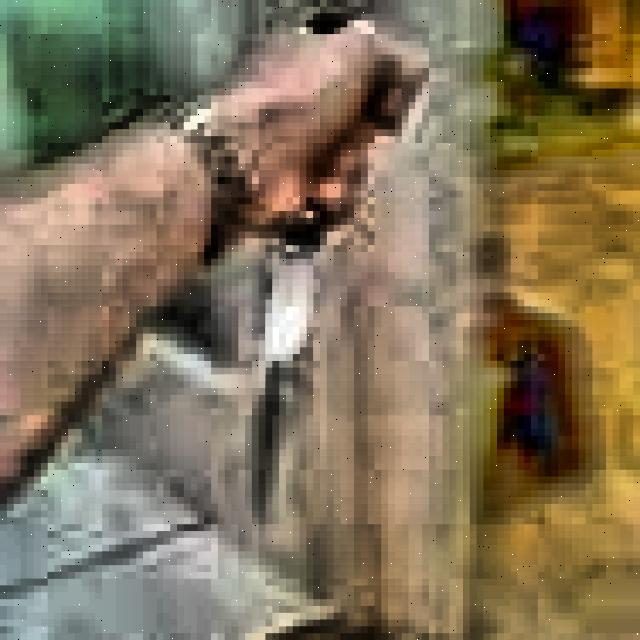knife: (246, 18, 344, 519)
